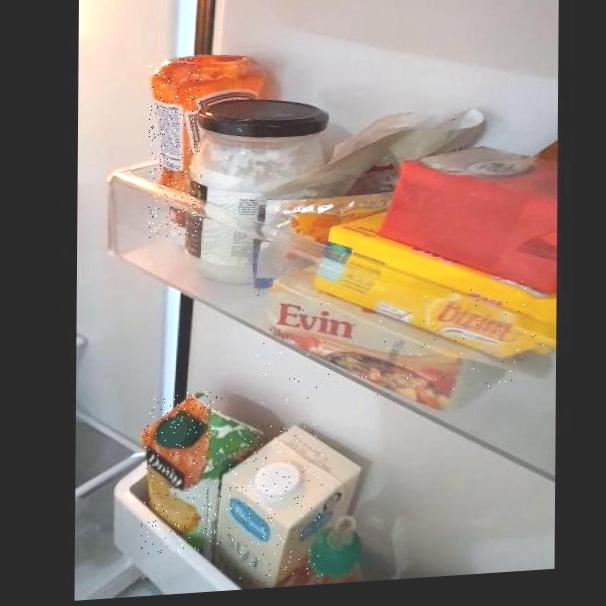butter: (257, 272, 545, 405)
juice: (141, 390, 223, 555)
milk: (225, 420, 325, 587)
sauce: (148, 56, 203, 239)
